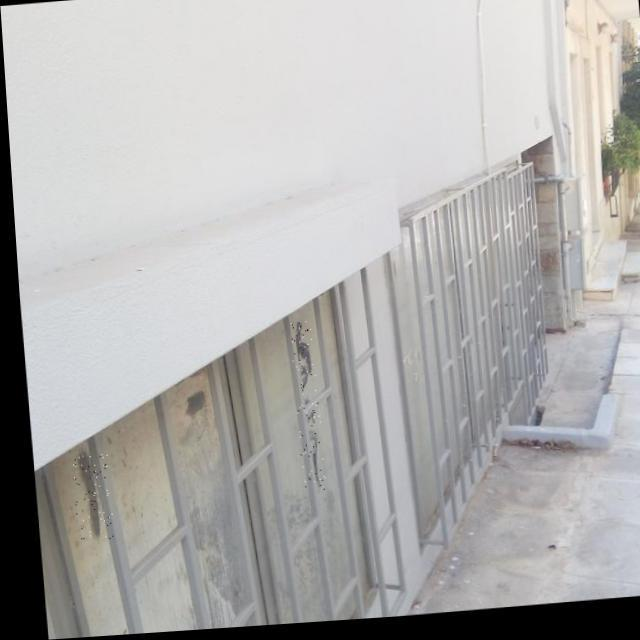-: (284, 323, 319, 494), (64, 453, 107, 543)
